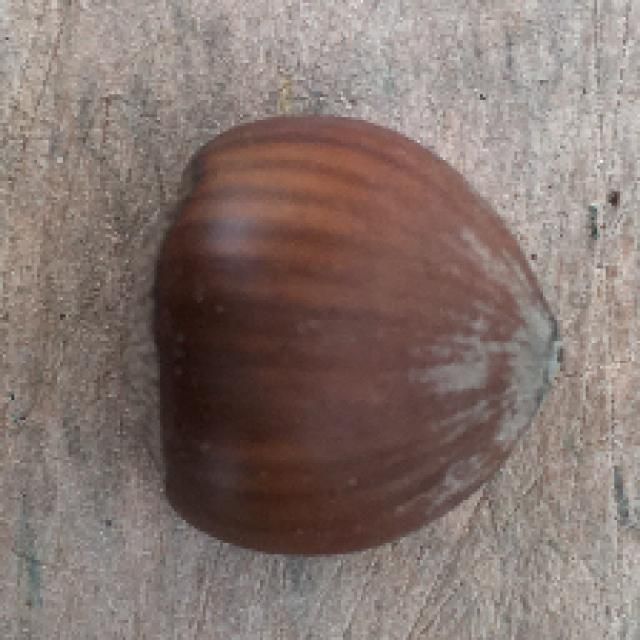DamagedHazelnut: (109, 114, 572, 559)
